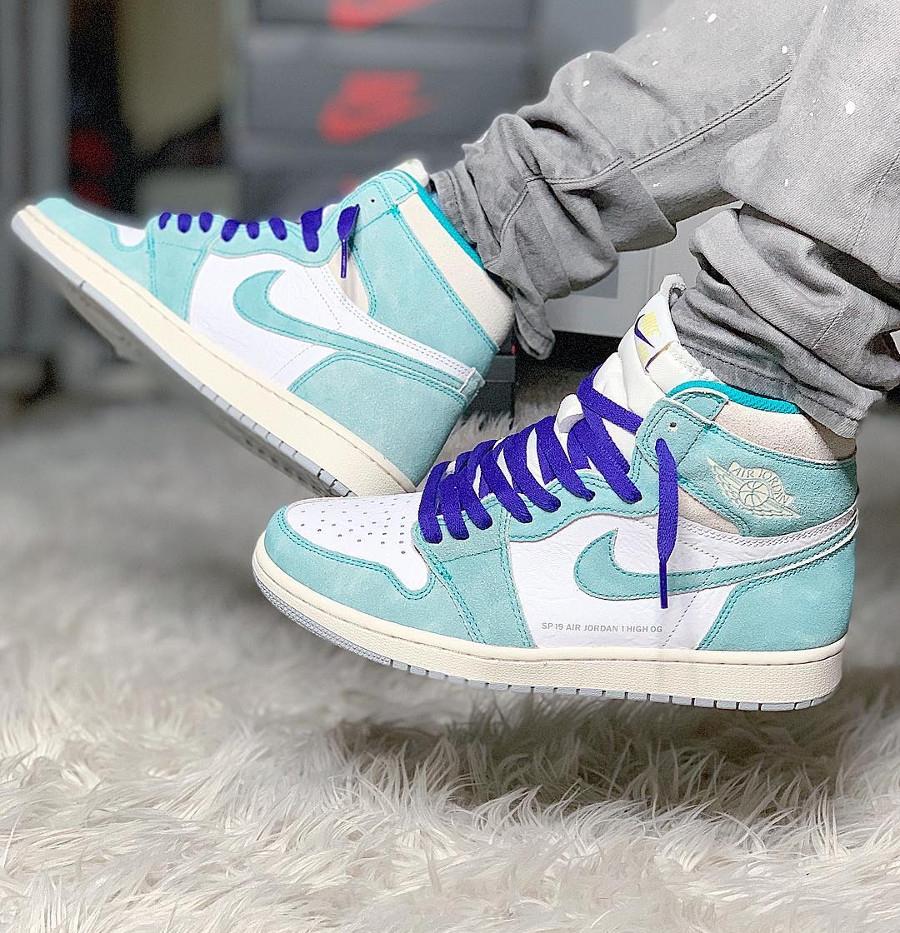Jordan 1: (244, 271, 865, 719), (9, 156, 523, 510)
